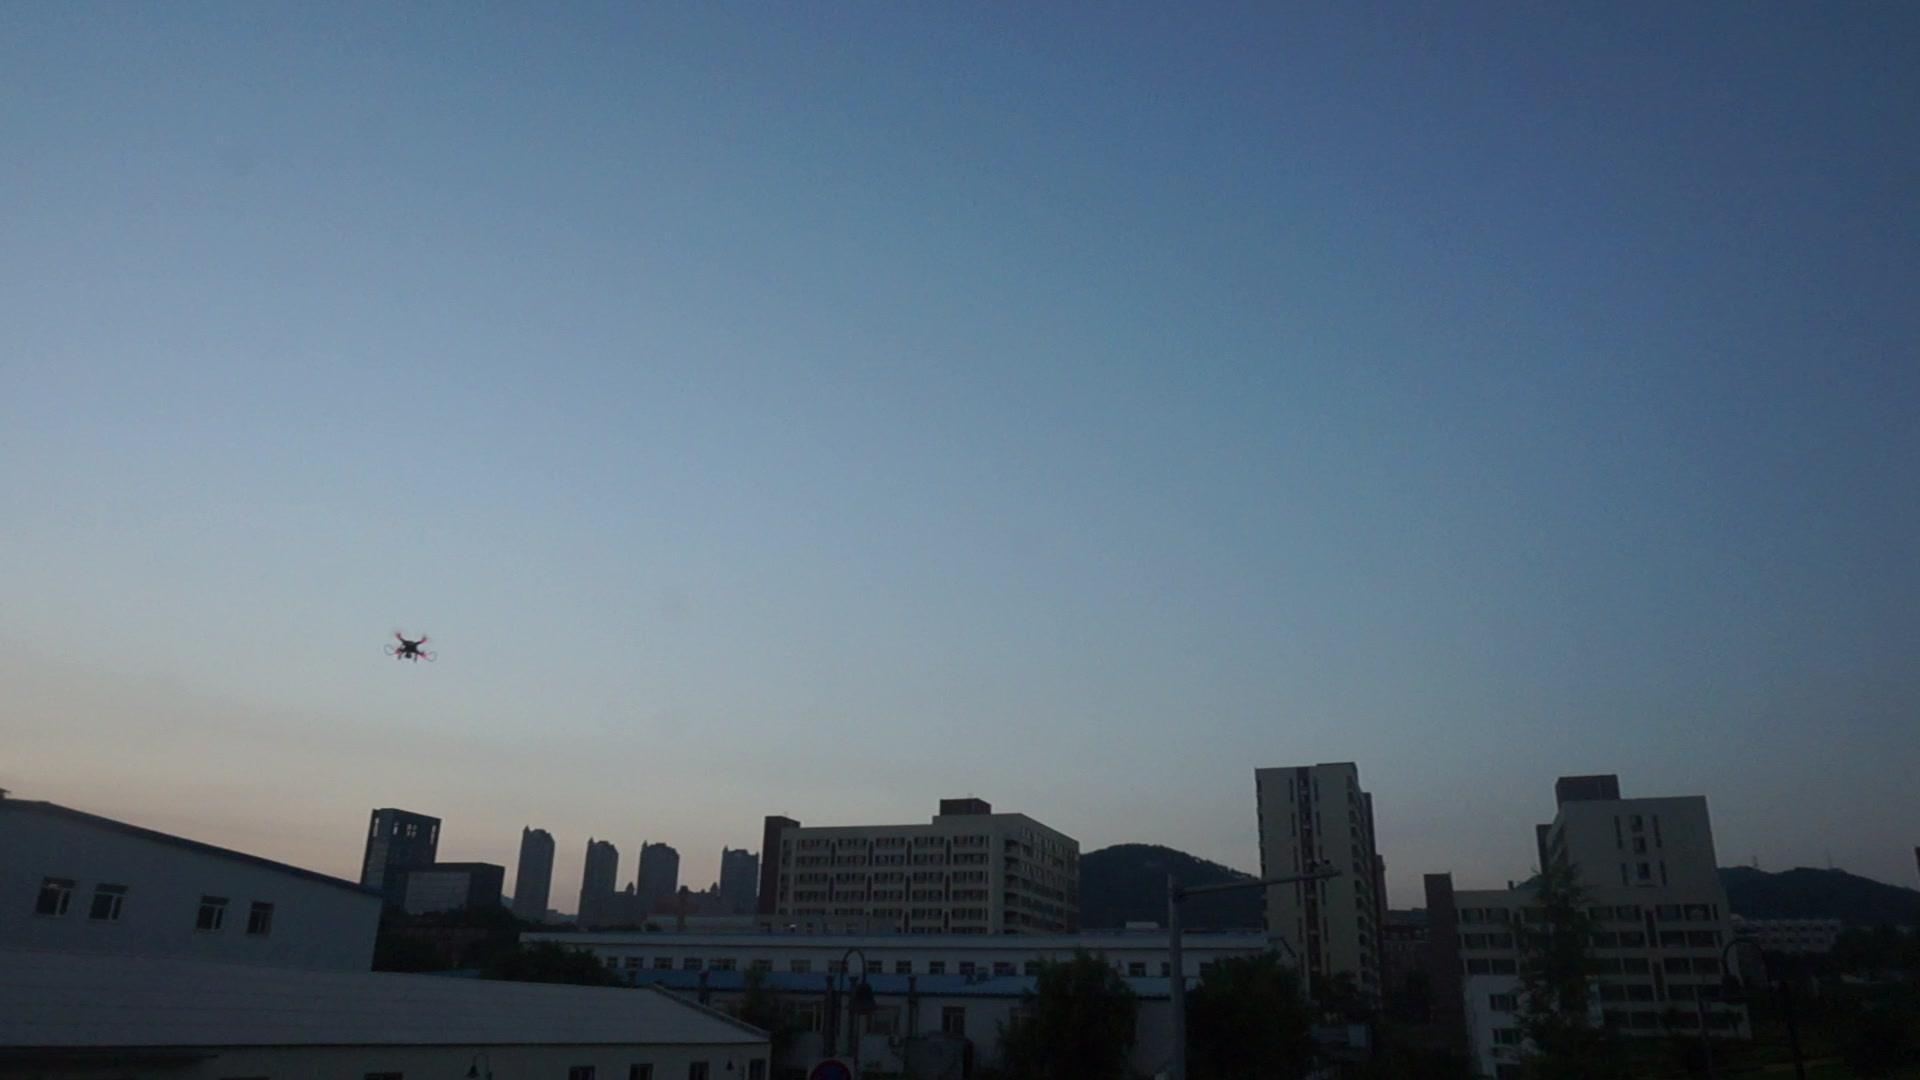UAV: (385, 632, 438, 665)
